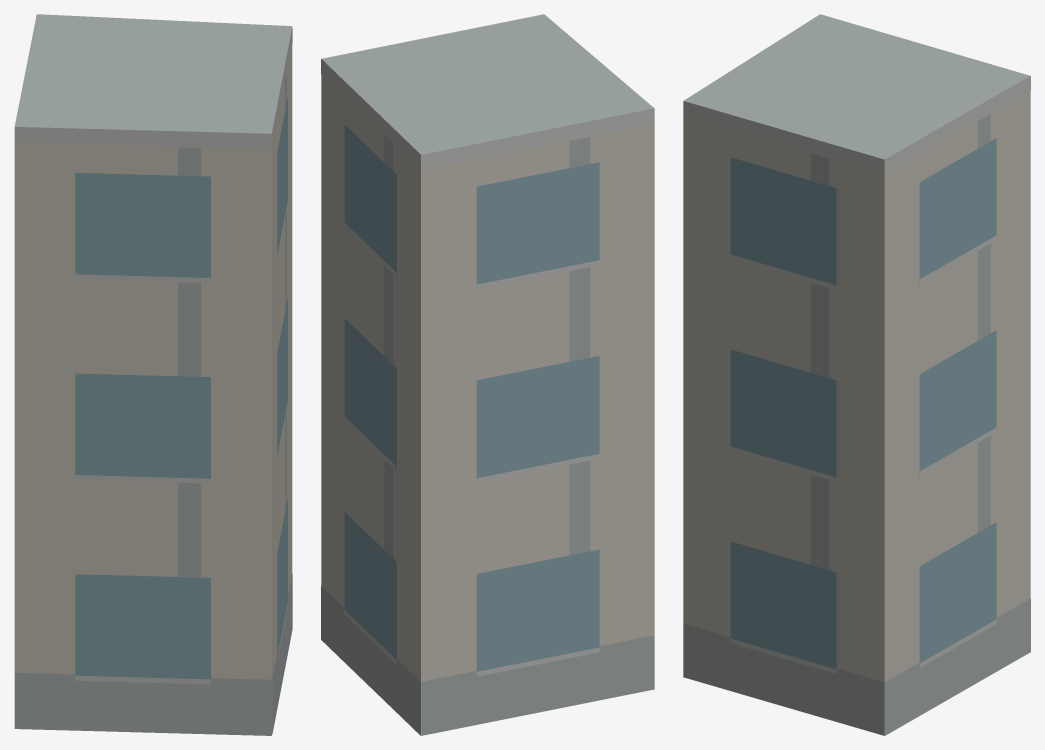
Rendered from survey-upis-32571552.glb.
3 views of the same model, side by side, from view 1: azimuth 30°, elevation 25°; view 2: azimuth 150°, elevation 25°; view 3: azimuth 270°, elevation 25° (orthographic). The views are drawn at different scales.
Parts seen in each view (by area): view 1: survey-upis-32571552.tmp; view 2: survey-upis-32571552.tmp; view 3: survey-upis-32571552.tmp.
Part boxes in pixels (x1=…): survey-upis-32571552.tmp: x1=14, y1=14, x2=292, y2=735; survey-upis-32571552.tmp: x1=321, y1=14, x2=654, y2=735; survey-upis-32571552.tmp: x1=683, y1=14, x2=1030, y2=735.
Bounding box in the file's own units: 4.96 × 9.15 × 5.01.
